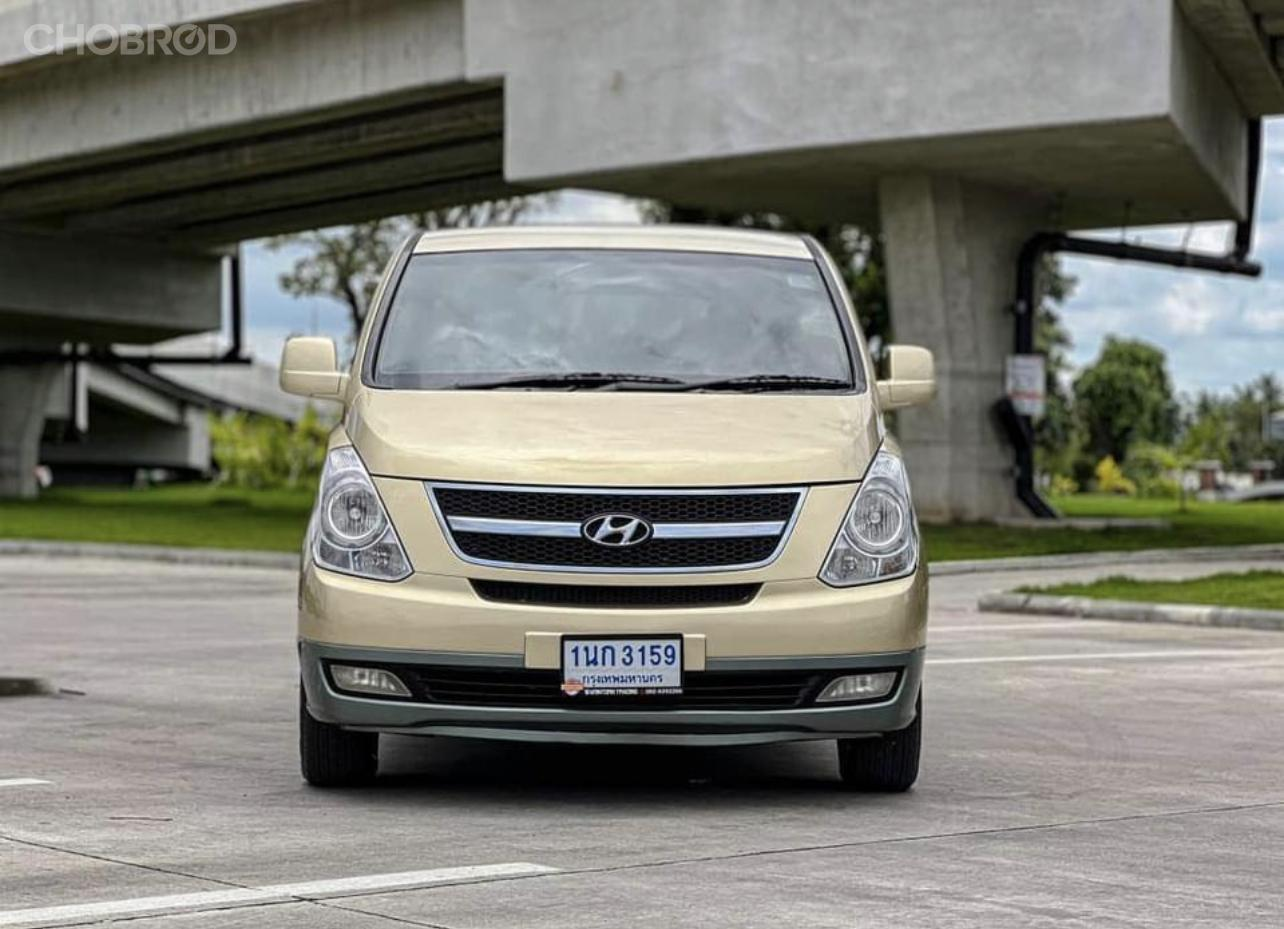license-plate: (561, 630, 687, 701)
